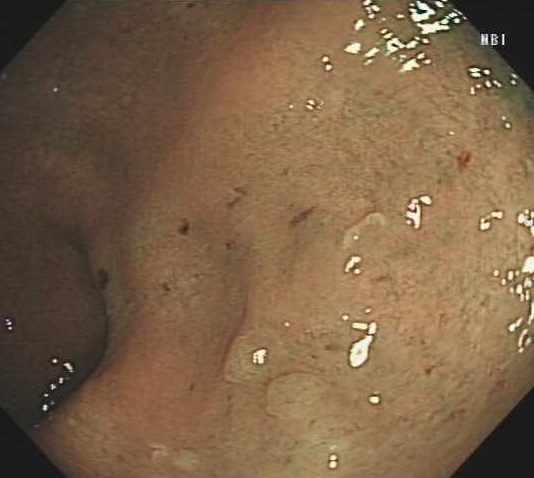others: (221, 324, 327, 424)
